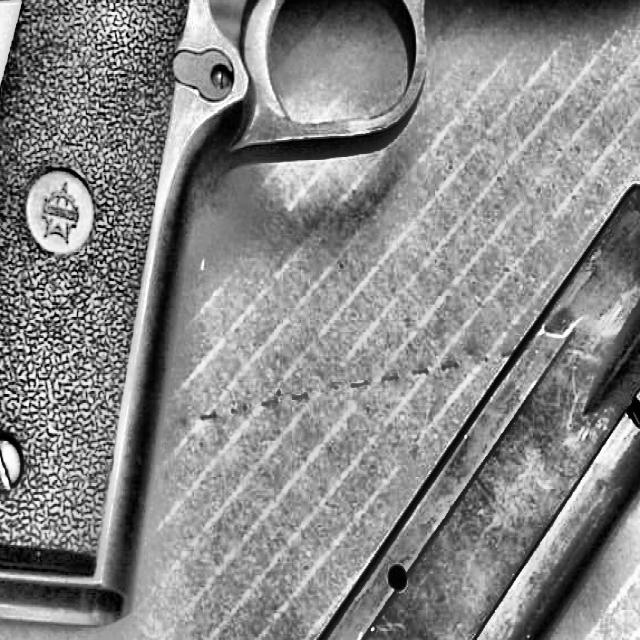Norinco: (0, 0, 640, 631)
